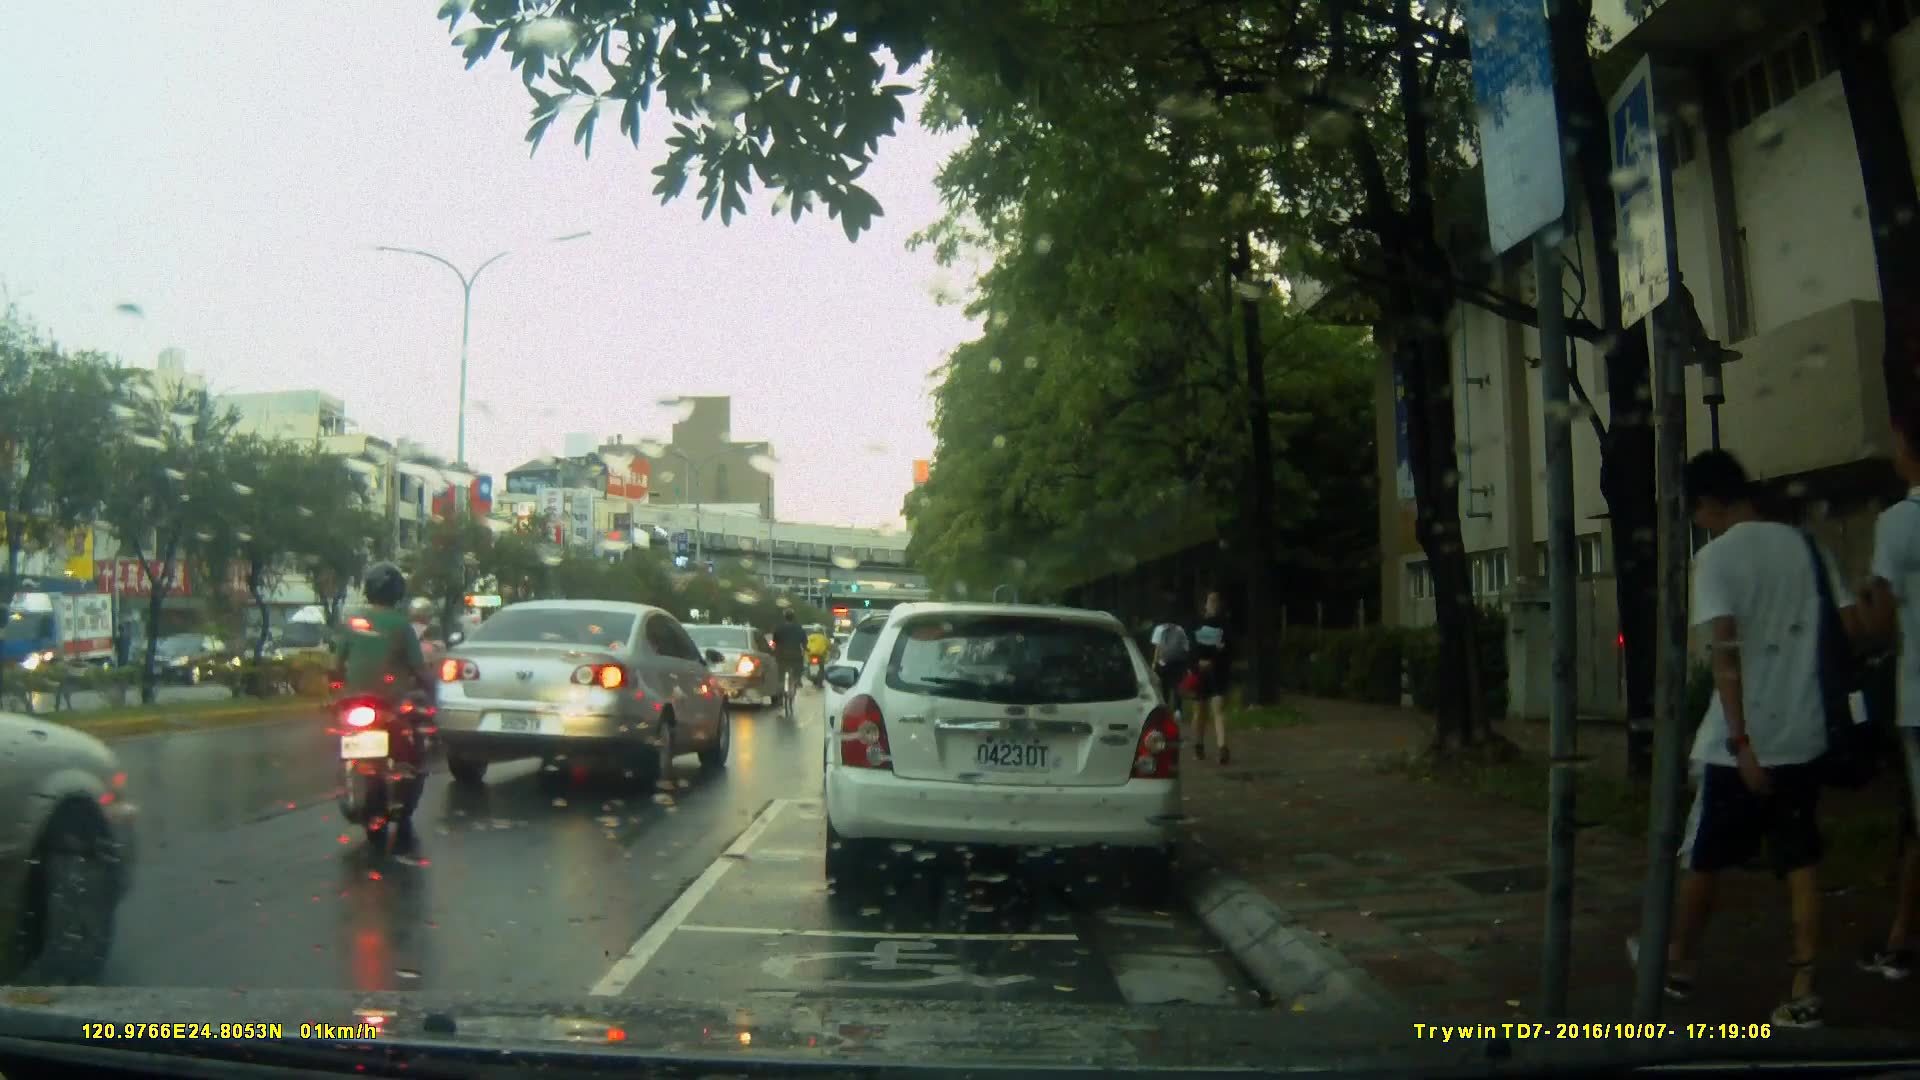pedestrian: (1647, 425, 1806, 1016), (1825, 411, 1915, 975), (1172, 585, 1233, 766), (1145, 604, 1193, 732)
rider: (323, 563, 422, 865), (363, 587, 459, 752), (769, 611, 805, 726), (806, 617, 831, 691)
vehicle: (820, 602, 1188, 898), (430, 595, 733, 794), (1, 587, 128, 699), (649, 624, 787, 713)
